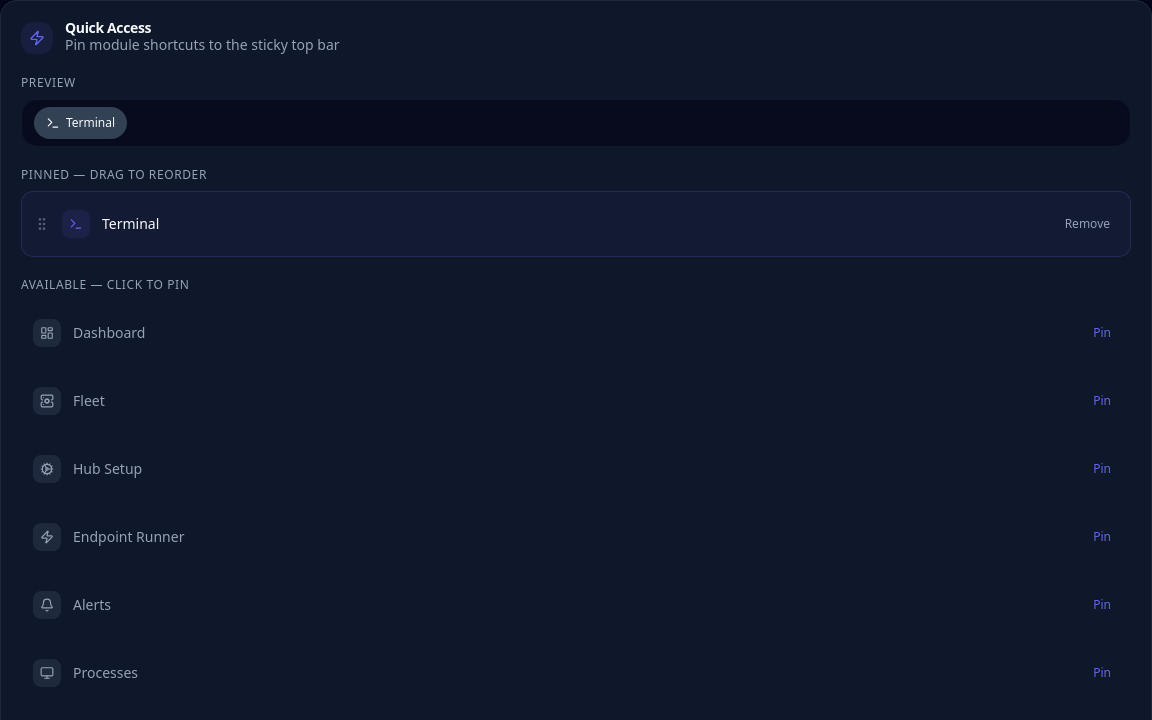
Test: QuickAccessSettings › removes a module when the Remove button is clicked
Click the button "Remove" at (1087, 224), box [1057,202,1118,246]
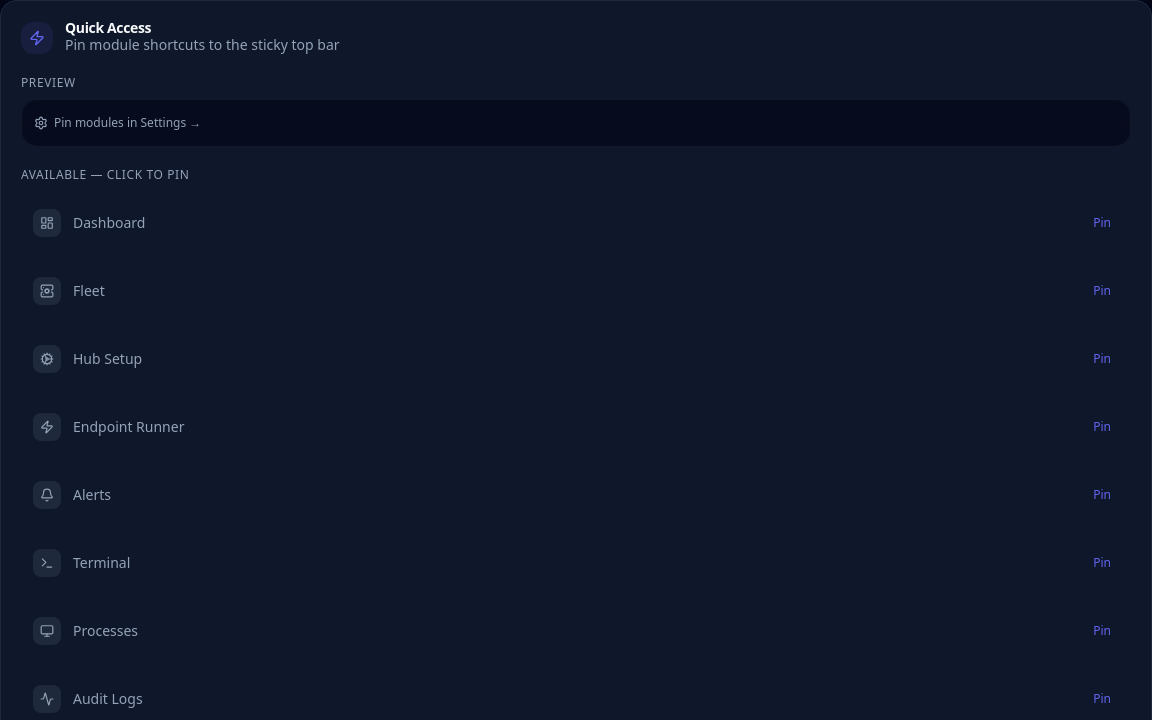
Check: the button "Remove" is gone
